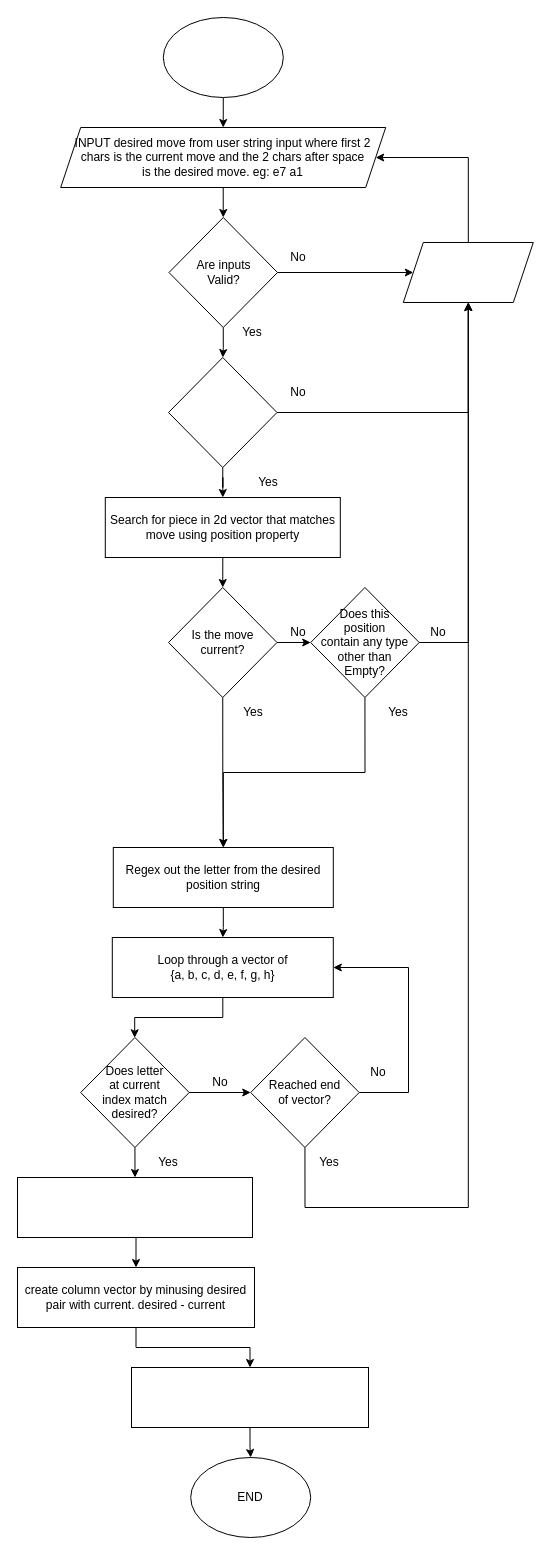
Image size: 551x1555. Some labels were removed from this diagram. The shapes that lost their labels are listed below. From the top down, each one's centre as x and y in pixels, then its label:
At (222,57): "START".
At (467,272): "OUTPUT error message".
At (222,412): "Does this position exist in 2d vector?".
At (134,1207): "save this int with the existing int of move as a pair".
At (249,1397): "return column vector".
